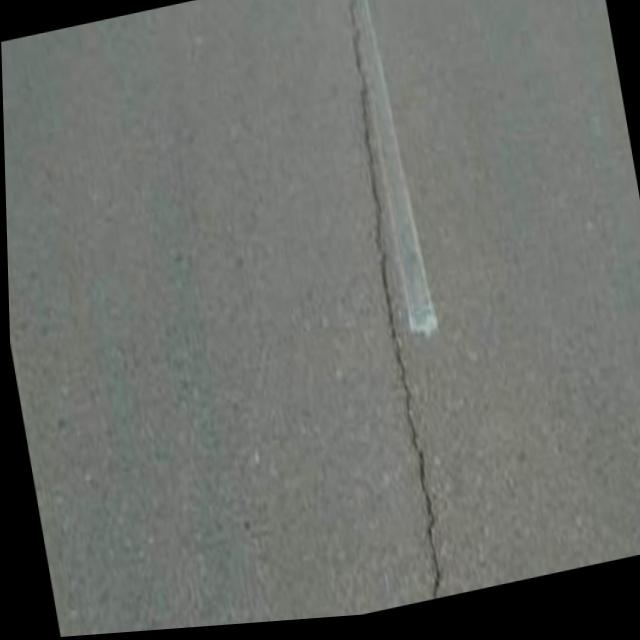Crack: (314, 0, 490, 613)
